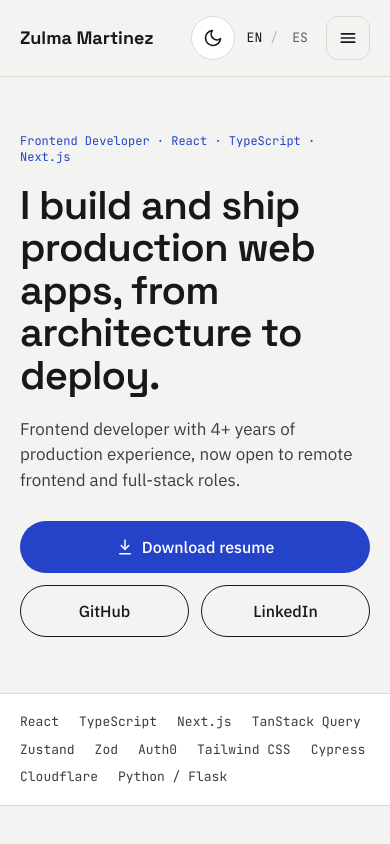
it: motion › animates the mobile menu open and closed
Expected: the button named "Switch to dark mode" is shown, [191,16,235,60]
Click the button named "Open menu" at (348, 38), box [326,16,370,60]
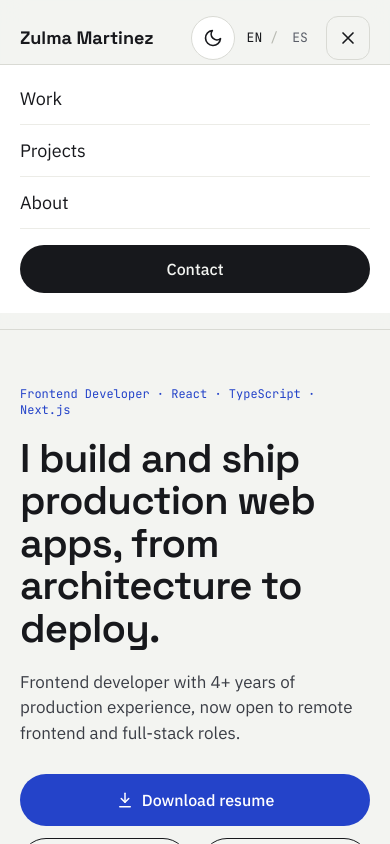
Click the button named "Close menu" at (348, 38), box [326,16,370,60]
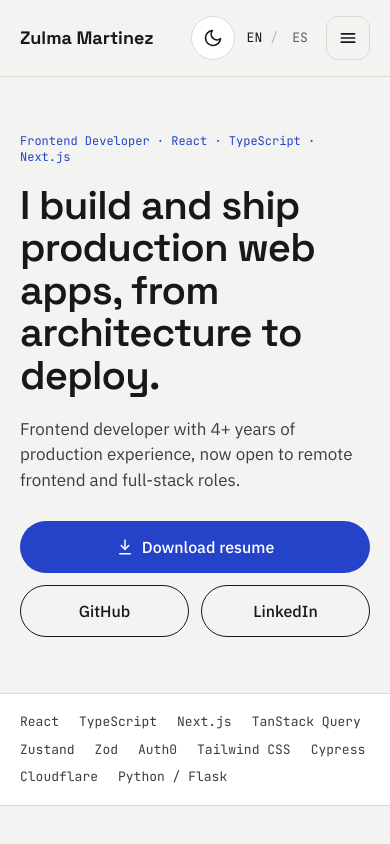
Now the element with class "menu-panel" is gone
